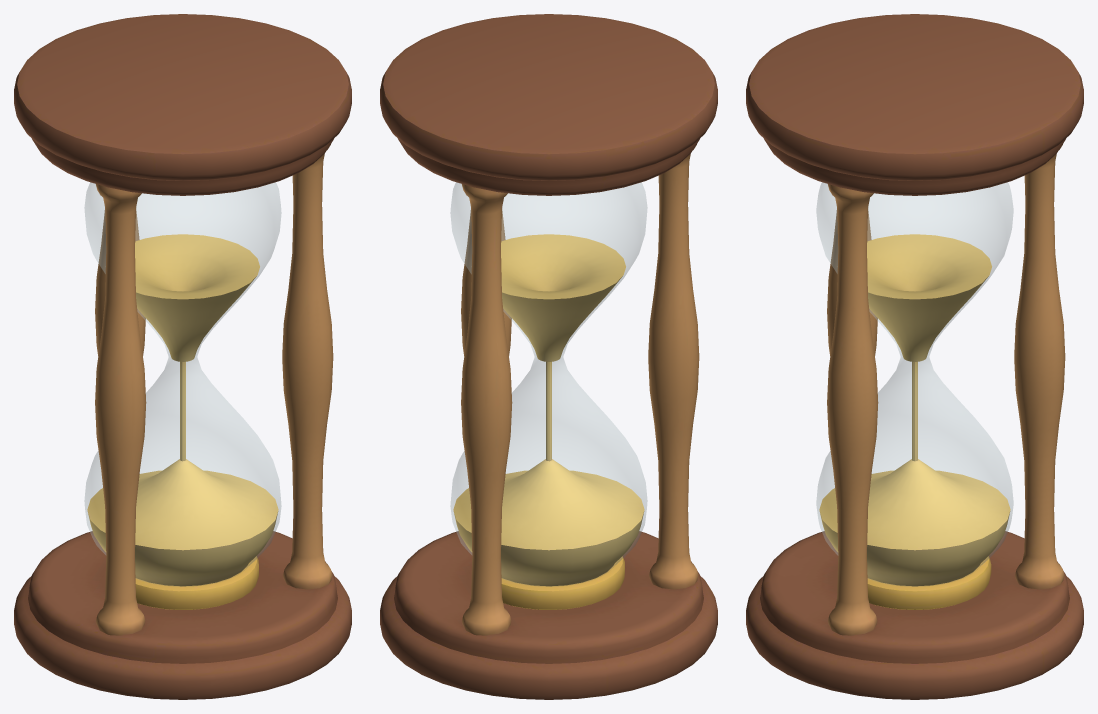
3 renders of one model, left to right at view 1: azimuth 30°, elevation 25°; view 2: azimuth 150°, elevation 25°; view 3: azimuth 270°, elevation 25°, orthographic.
Parts seen in each view (by area): view 1: hourglass_body, hourglass_glass; view 2: hourglass_body, hourglass_glass; view 3: hourglass_body, hourglass_glass.
Part boxes in pixels (left/top/right/bottom): hourglass_body: left=14, top=14, right=351, bottom=699; hourglass_glass: left=84, top=182, right=281, bottom=586; hourglass_body: left=380, top=14, right=717, bottom=699; hourglass_glass: left=450, top=182, right=647, bottom=586; hourglass_body: left=746, top=14, right=1083, bottom=699; hourglass_glass: left=816, top=182, right=1013, bottom=586.
Bounding box in the file's own units: 0.1002 × 0.18 × 0.1002.
Materials: 2 (1 with a texture image).
